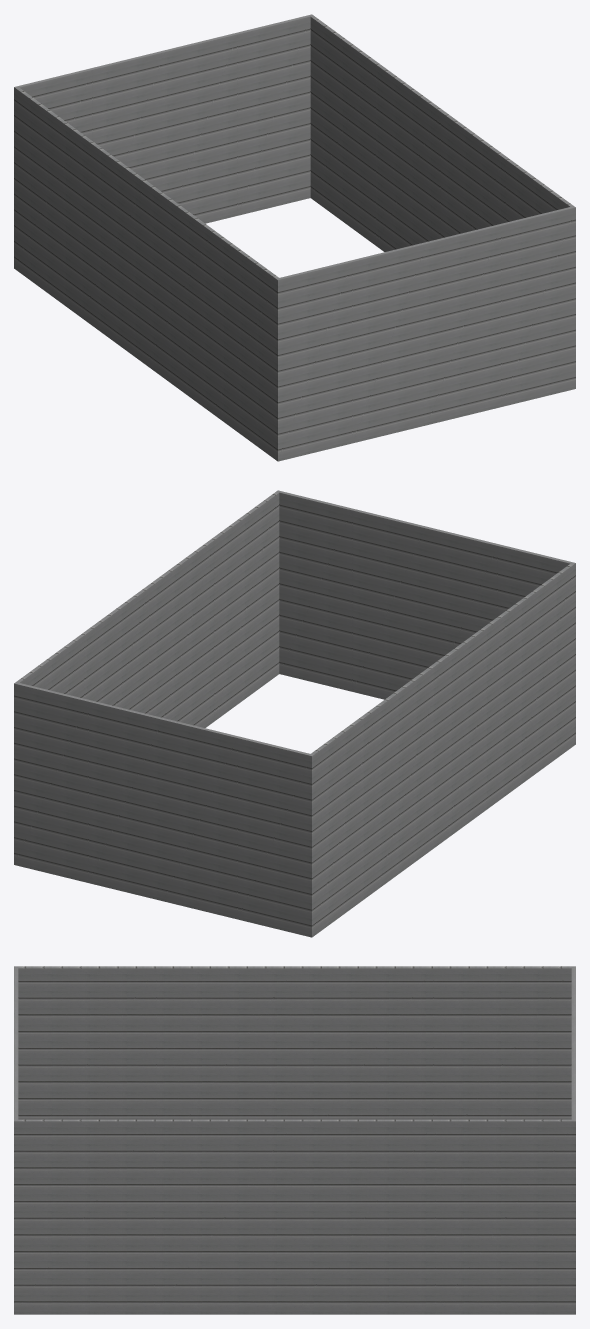
Rendered from exteriorGf.glb.
3 renders of one model, top to bottom at view 1: azimuth 30°, elevation 25°; view 2: azimuth 150°, elevation 25°; view 3: azimuth 270°, elevation 25°, orthographic. The views are drawn at different scales.
Parts seen in each view (by area): view 1: exteriorwall; view 2: exteriorwall; view 3: exteriorwall.
Boxes of the visible parts, x1,y1,x2,y2 form: exteriorwall: (14, 14, 575, 461); exteriorwall: (14, 490, 575, 937); exteriorwall: (14, 966, 575, 1314).
Bounding box in the file's own units: 4.9 × 2.85 × 7.52.
1 material, 1 textured.
